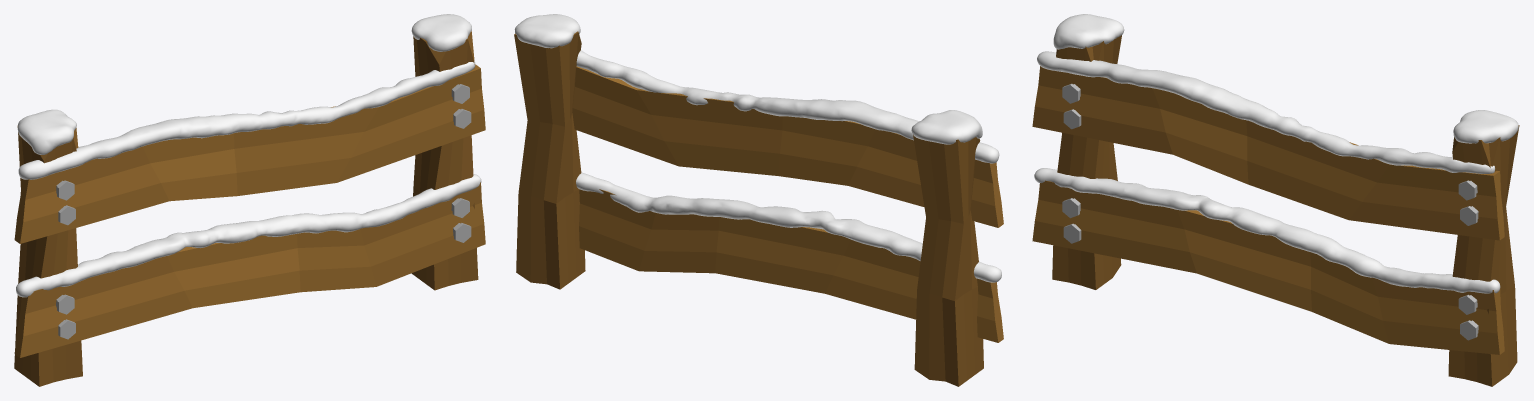
File: fenceTBD.fbx
The picture shows the model from 3 angles, left to right: view 1: azimuth 30°, elevation 25°; view 2: azimuth 150°, elevation 25°; view 3: azimuth 330°, elevation 25°; orthographic projection.
Parts seen in each view (by area): view 1: Xaxis.002, Xaxis.003, Yaxis.001, SnowBall.003, SnowBall.002, SnowBall.004, Rivet.007, Rivet.005, Rivet.006, Rivet.004; view 2: Yaxis.001, Xaxis.002, Xaxis.003, SnowBall.003, SnowBall.002, SnowBall.004; view 3: Xaxis.002, Xaxis.003, Yaxis.001, SnowBall.003, SnowBall.002, SnowBall.004, Rivet.007, Rivet.005, Rivet.006, Rivet.004.
Part boxes in pixels (left/top/right/bottom): Xaxis.002: left=14, top=64, right=485, bottom=243; Xaxis.003: left=14, top=182, right=485, bottom=357; Yaxis.001: left=14, top=31, right=478, bottom=386; SnowBall.003: left=16, top=174, right=481, bottom=297; SnowBall.002: left=18, top=61, right=475, bottom=179; SnowBall.004: left=17, top=14, right=471, bottom=154; Rivet.007: left=56, top=198, right=469, bottom=314; Rivet.005: left=56, top=84, right=469, bottom=200; Rivet.006: left=58, top=223, right=471, bottom=339; Rivet.004: left=58, top=109, right=471, bottom=225; Yaxis.001: left=514, top=31, right=983, bottom=386; Xaxis.002: left=572, top=66, right=1003, bottom=227; Xaxis.003: left=579, top=189, right=1003, bottom=342; SnowBall.003: left=576, top=172, right=1001, bottom=282; SnowBall.002: left=576, top=50, right=999, bottom=163; SnowBall.004: left=514, top=14, right=982, bottom=144; Xaxis.002: left=1032, top=66, right=1504, bottom=240; Xaxis.003: left=1032, top=180, right=1504, bottom=354; Yaxis.001: left=1052, top=35, right=1519, bottom=386; SnowBall.003: left=1034, top=168, right=1500, bottom=293; SnowBall.002: left=1037, top=51, right=1495, bottom=173; SnowBall.004: left=1053, top=14, right=1518, bottom=143; Rivet.007: left=1062, top=198, right=1477, bottom=314; Rivet.005: left=1062, top=83, right=1477, bottom=200; Rivet.006: left=1063, top=223, right=1478, bottom=340; Rivet.004: left=1063, top=109, right=1478, bottom=225.
Bounding box in the file's own units: 56.01 × 28.91 × 7.18.
